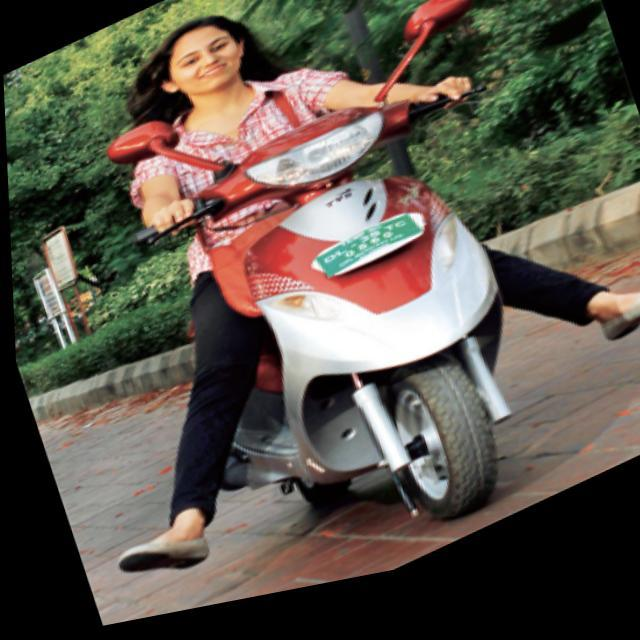Nonhelmet: (143, 3, 258, 120)
